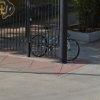Bicycle: (30, 24, 81, 63)
